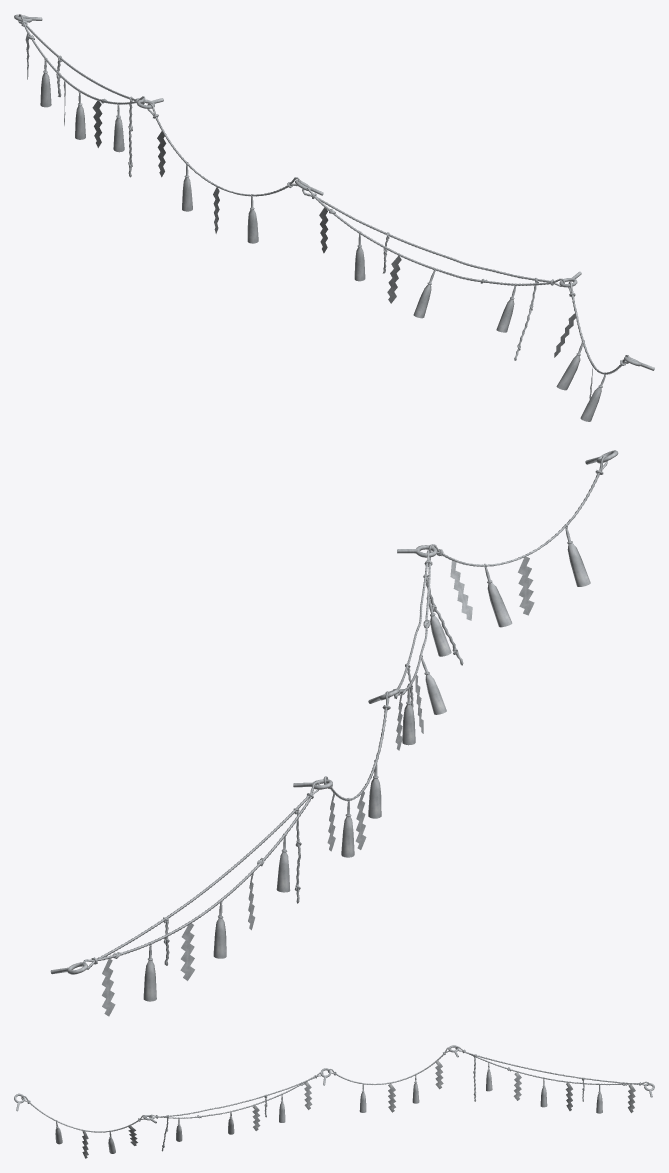
The model's file is SM_ENV_KNFRST_StrawRope_GroupF.FBX.
3 views of the same model, one above another, from view 1: azimuth 30°, elevation 25°; view 2: azimuth 150°, elevation 25°; view 3: azimuth 270°, elevation 25° (orthographic). The views are drawn at different scales.
Parts seen in each view (by area): view 1: SM_ENV_KNFRST_StrawRope_GroupF; view 2: SM_ENV_KNFRST_StrawRope_GroupF; view 3: SM_ENV_KNFRST_StrawRope_GroupF.
Part boxes in pixels (left/top/right/bottom): SM_ENV_KNFRST_StrawRope_GroupF: left=14, top=14, right=654, bottom=421; SM_ENV_KNFRST_StrawRope_GroupF: left=50, top=450, right=618, bottom=1016; SM_ENV_KNFRST_StrawRope_GroupF: left=14, top=1045, right=654, bottom=1158.
Bounding box in the file's own units: 962 × 576 × 4585.
